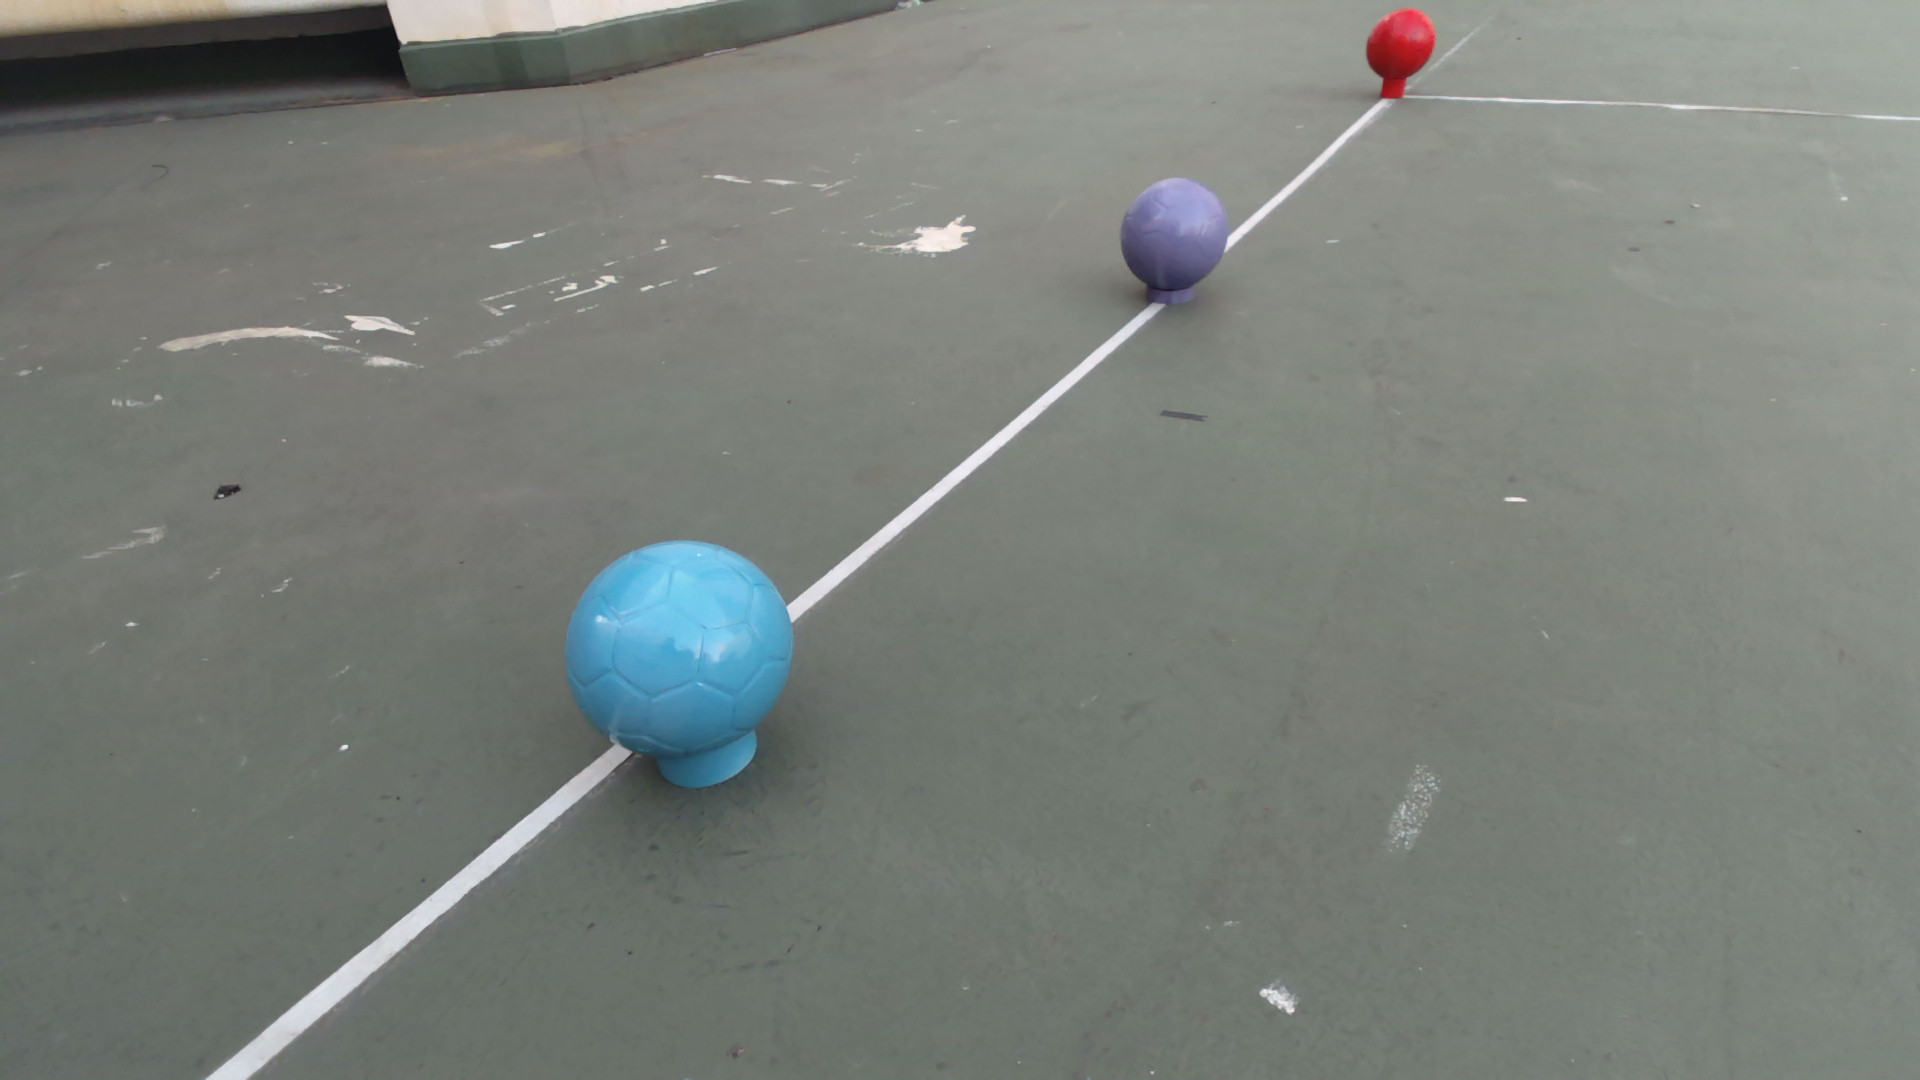Blue ball: (562, 539, 796, 762)
Purple ball: (1118, 175, 1229, 291)
Red ball: (1364, 7, 1437, 80)
